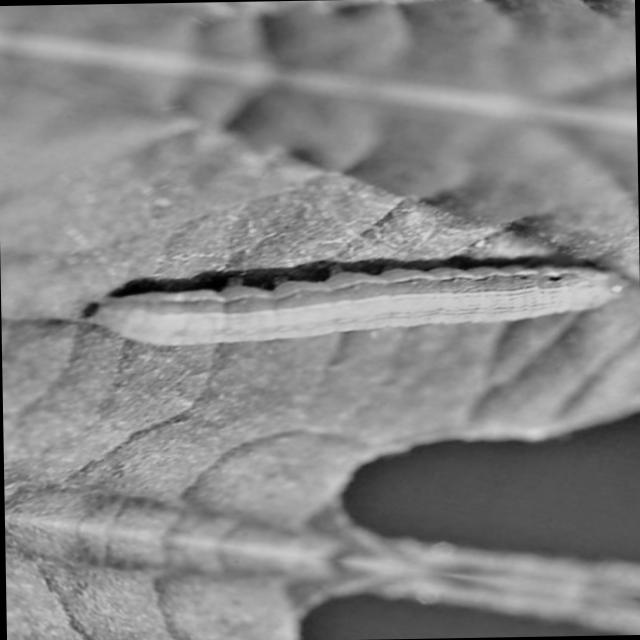Armyworm: (74, 248, 640, 379)
